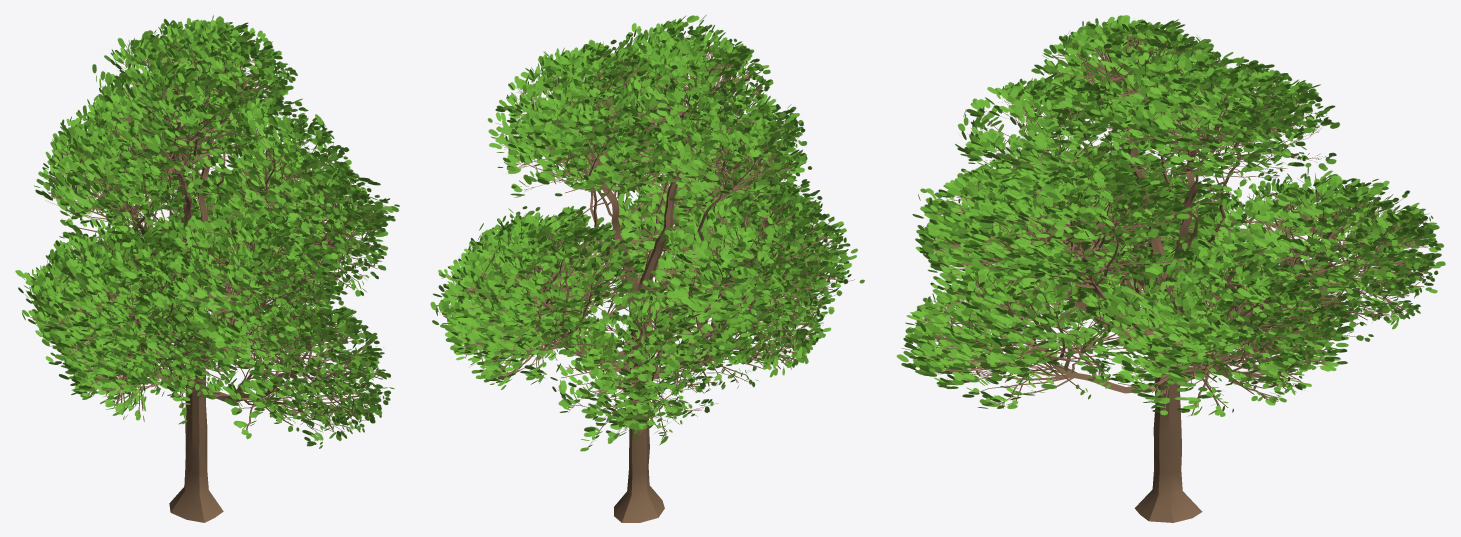
File: tree.glb
3 views of the same model, side by side, from view 1: azimuth 30°, elevation 25°; view 2: azimuth 150°, elevation 25°; view 3: azimuth 270°, elevation 25° (orthographic). The views are drawn at different scales.
Parts seen in each view (by area): view 1: oak 01, oak 01_leafes_Mat.001_0.001, oak 01.001_trunk_Mat.001_0.001, oak 01.001, oak 01.001_trunk_Mat.001_0.002; view 2: oak 01, oak 01_leafes_Mat.001_0.001, oak 01.001_trunk_Mat.001_0.001, oak 01.001, oak 01.001_trunk_Mat.001_0.002; view 3: oak 01, oak 01_leafes_Mat.001_0.001, oak 01.001_trunk_Mat.001_0.001, oak 01.001, oak 01.001_trunk_Mat.001_0.002.
Boxes of the visible parts, box(x1,y1,x2,y2) form: oak 01: box(24, 15, 399, 444); oak 01_leafes_Mat.001_0.001: box(15, 18, 394, 448); oak 01.001_trunk_Mat.001_0.001: box(45, 35, 386, 522); oak 01.001: box(23, 29, 387, 441); oak 01.001_trunk_Mat.001_0.002: box(74, 34, 366, 437); oak 01: box(430, 18, 864, 451); oak 01_leafes_Mat.001_0.001: box(432, 15, 856, 442); oak 01.001_trunk_Mat.001_0.001: box(449, 29, 838, 522); oak 01.001: box(438, 40, 854, 446); oak 01.001_trunk_Mat.001_0.002: box(462, 35, 830, 430); oak 01: box(905, 15, 1444, 416); oak 01_leafes_Mat.001_0.001: box(896, 15, 1445, 416); oak 01.001_trunk_Mat.001_0.001: box(965, 37, 1435, 522); oak 01.001: box(908, 30, 1344, 415); oak 01.001_trunk_Mat.001_0.002: box(930, 32, 1359, 403).
Size of the model in its own units: 1.08 by 1.51 by 1.59.
Materials: 2 (1 with a texture image).
